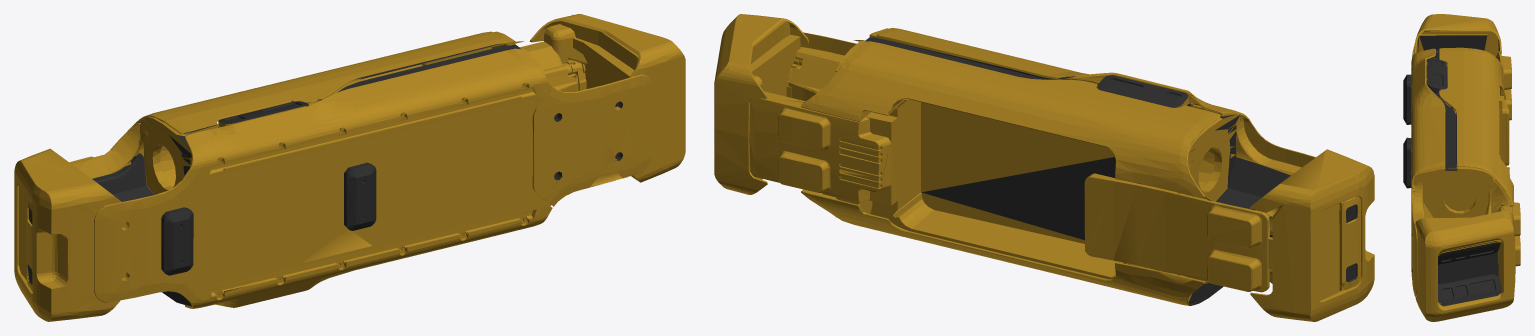
File: body.glb
3 renders of one model, left to right at view 1: azimuth 30°, elevation 25°; view 2: azimuth 150°, elevation 25°; view 3: azimuth 270°, elevation 25°, orthographic. The views are drawn at different scales.
Parts seen in each view (by area): view 1: body; view 2: body; view 3: body.
Boxes of the visible parts, x1=… form: body: x1=14, y1=14, x2=685, y2=321; body: x1=714, y1=14, x2=1374, y2=321; body: x1=1403, y1=14, x2=1520, y2=321.
Bounding box in the file's own units: 0.8724 × 0.2392 × 0.1947.
